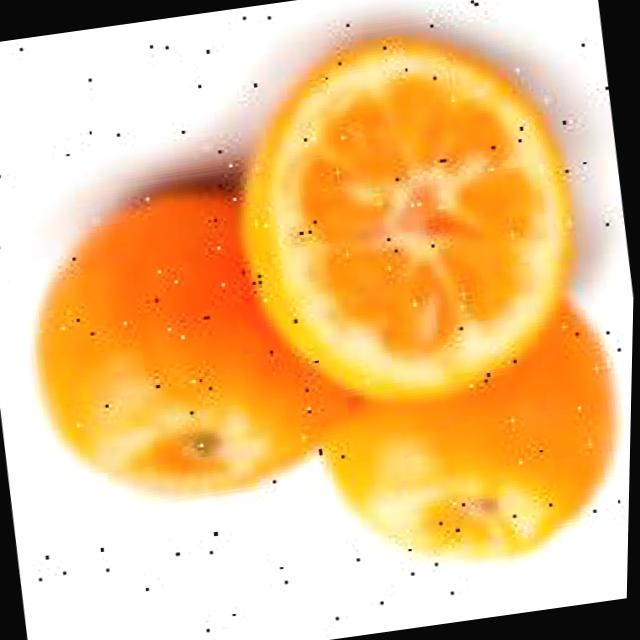orange: (13, 166, 359, 524), (309, 278, 635, 578)
